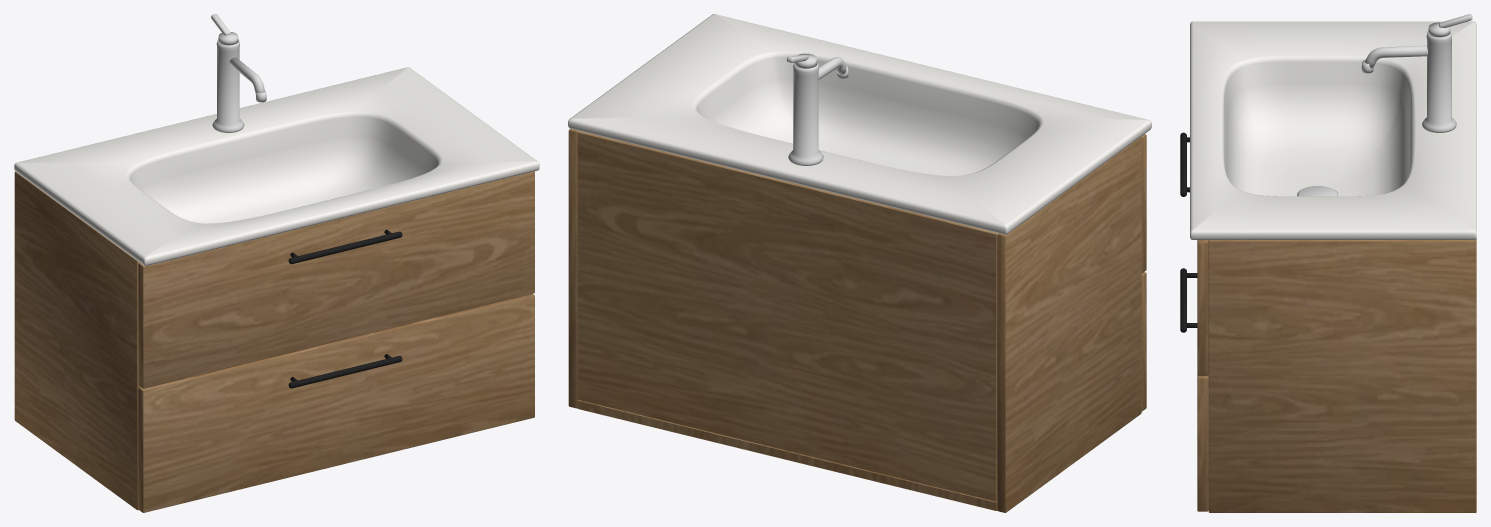
File: mueble_lavabo_suspendido_80_roble.glb
3 views of the same model, side by side, from view 1: azimuth 30°, elevation 25°; view 2: azimuth 150°, elevation 25°; view 3: azimuth 270°, elevation 25° (orthographic). The views are drawn at different scales.
Visible parts, largest first — view 1: mueble_lavabo_suspendido_80_roble; view 2: mueble_lavabo_suspendido_80_roble; view 3: mueble_lavabo_suspendido_80_roble.
Boxes of the visible parts, x1=… form: mueble_lavabo_suspendido_80_roble: x1=14, y1=14, x2=539, y2=512; mueble_lavabo_suspendido_80_roble: x1=568, y1=14, x2=1151, y2=512; mueble_lavabo_suspendido_80_roble: x1=1180, y1=14, x2=1476, y2=512.
Bounding box in the file's own units: 0.8 × 0.6964 × 0.4756.
4 materials, 1 textured.
